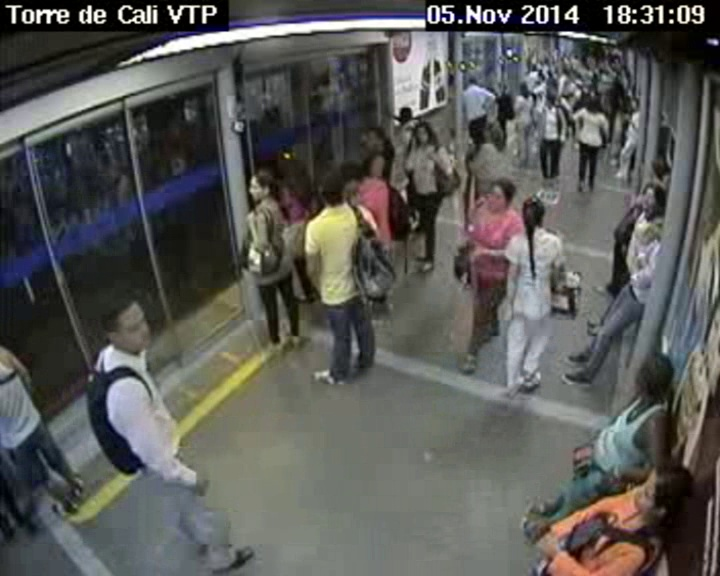person: (96, 296, 162, 356), (635, 457, 690, 524), (630, 349, 670, 401), (272, 150, 311, 193), (245, 165, 283, 206), (487, 172, 516, 212), (520, 193, 550, 227), (314, 171, 343, 205), (361, 122, 386, 155), (639, 186, 664, 218), (335, 169, 359, 201), (651, 206, 671, 243), (486, 121, 507, 147), (411, 122, 431, 145), (586, 96, 599, 116), (462, 72, 478, 88), (516, 80, 530, 95), (545, 92, 557, 109), (629, 97, 641, 112)
